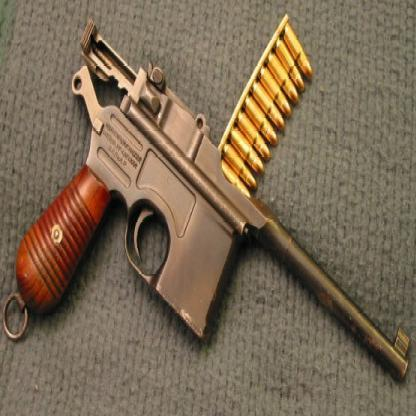Pistol: (1, 17, 412, 388)
